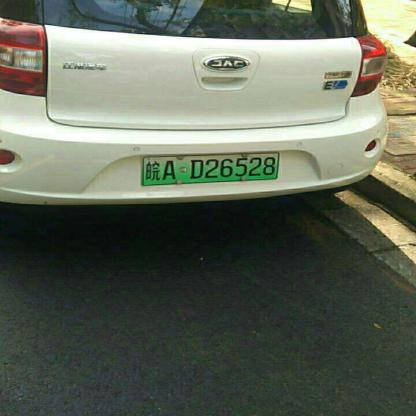lp: (143, 152, 278, 184)
